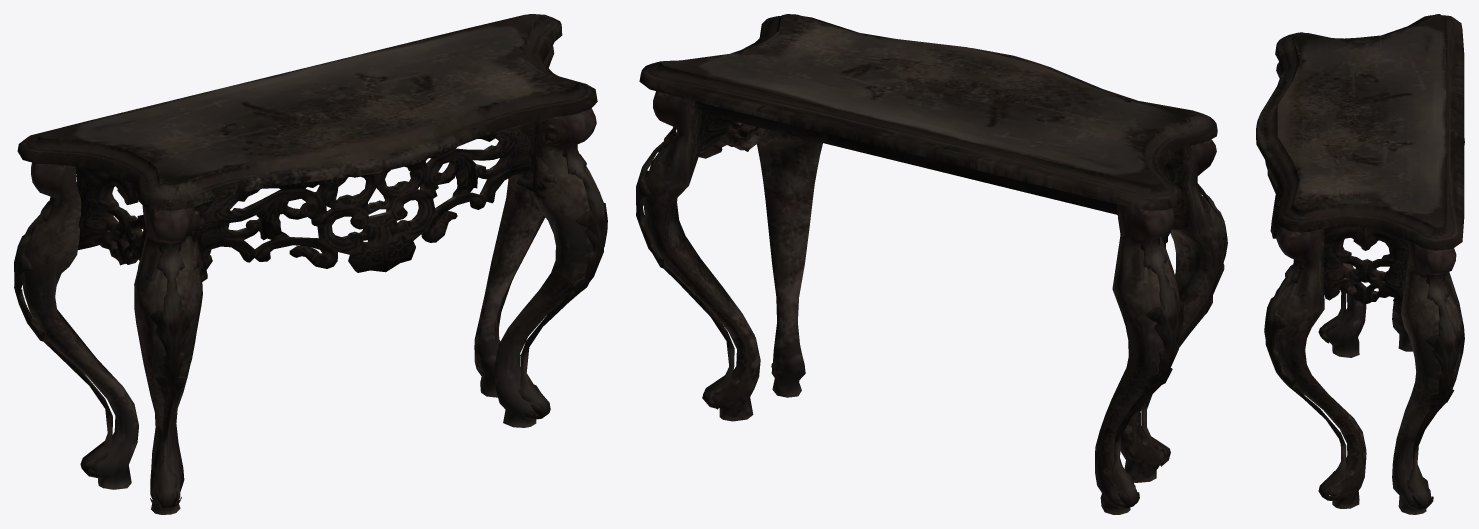
The model's file is console-table.glb.
3 views of the same model, side by side, from view 1: azimuth 30°, elevation 25°; view 2: azimuth 150°, elevation 25°; view 3: azimuth 270°, elevation 25° (orthographic). The views are drawn at different scales.
Visible parts, largest first — view 1: ClassicConsole_01; view 2: ClassicConsole_01; view 3: ClassicConsole_01.
Boxes of the visible parts, x1,y1,x2,y2 form: ClassicConsole_01: [14, 14, 607, 514]; ClassicConsole_01: [636, 14, 1227, 514]; ClassicConsole_01: [1256, 14, 1464, 514].
Bounding box in the file's own units: 1.54 × 0.9491 × 0.5859.
1 material, 1 textured.
